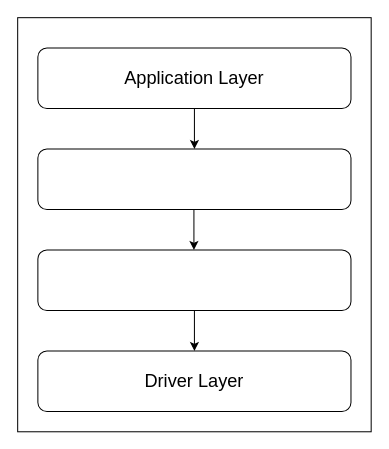
The diagram is 389 pixels wide and 449 high, and some of its shapes have lost their labels. The shapes that lost their labels are listed below. From the top down, each one's box as (x1, y1, x2, y2) in pixels, then its label:
(37, 148, 351, 210): Middleware
(37, 249, 351, 311): HAL (Hardware Abstraction Layer)
